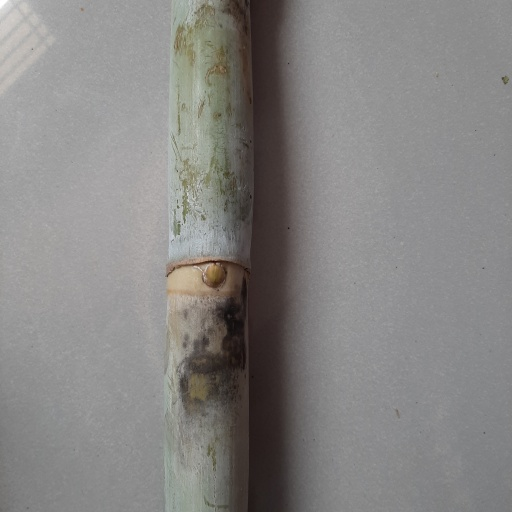Bud: (201, 263, 228, 290)
